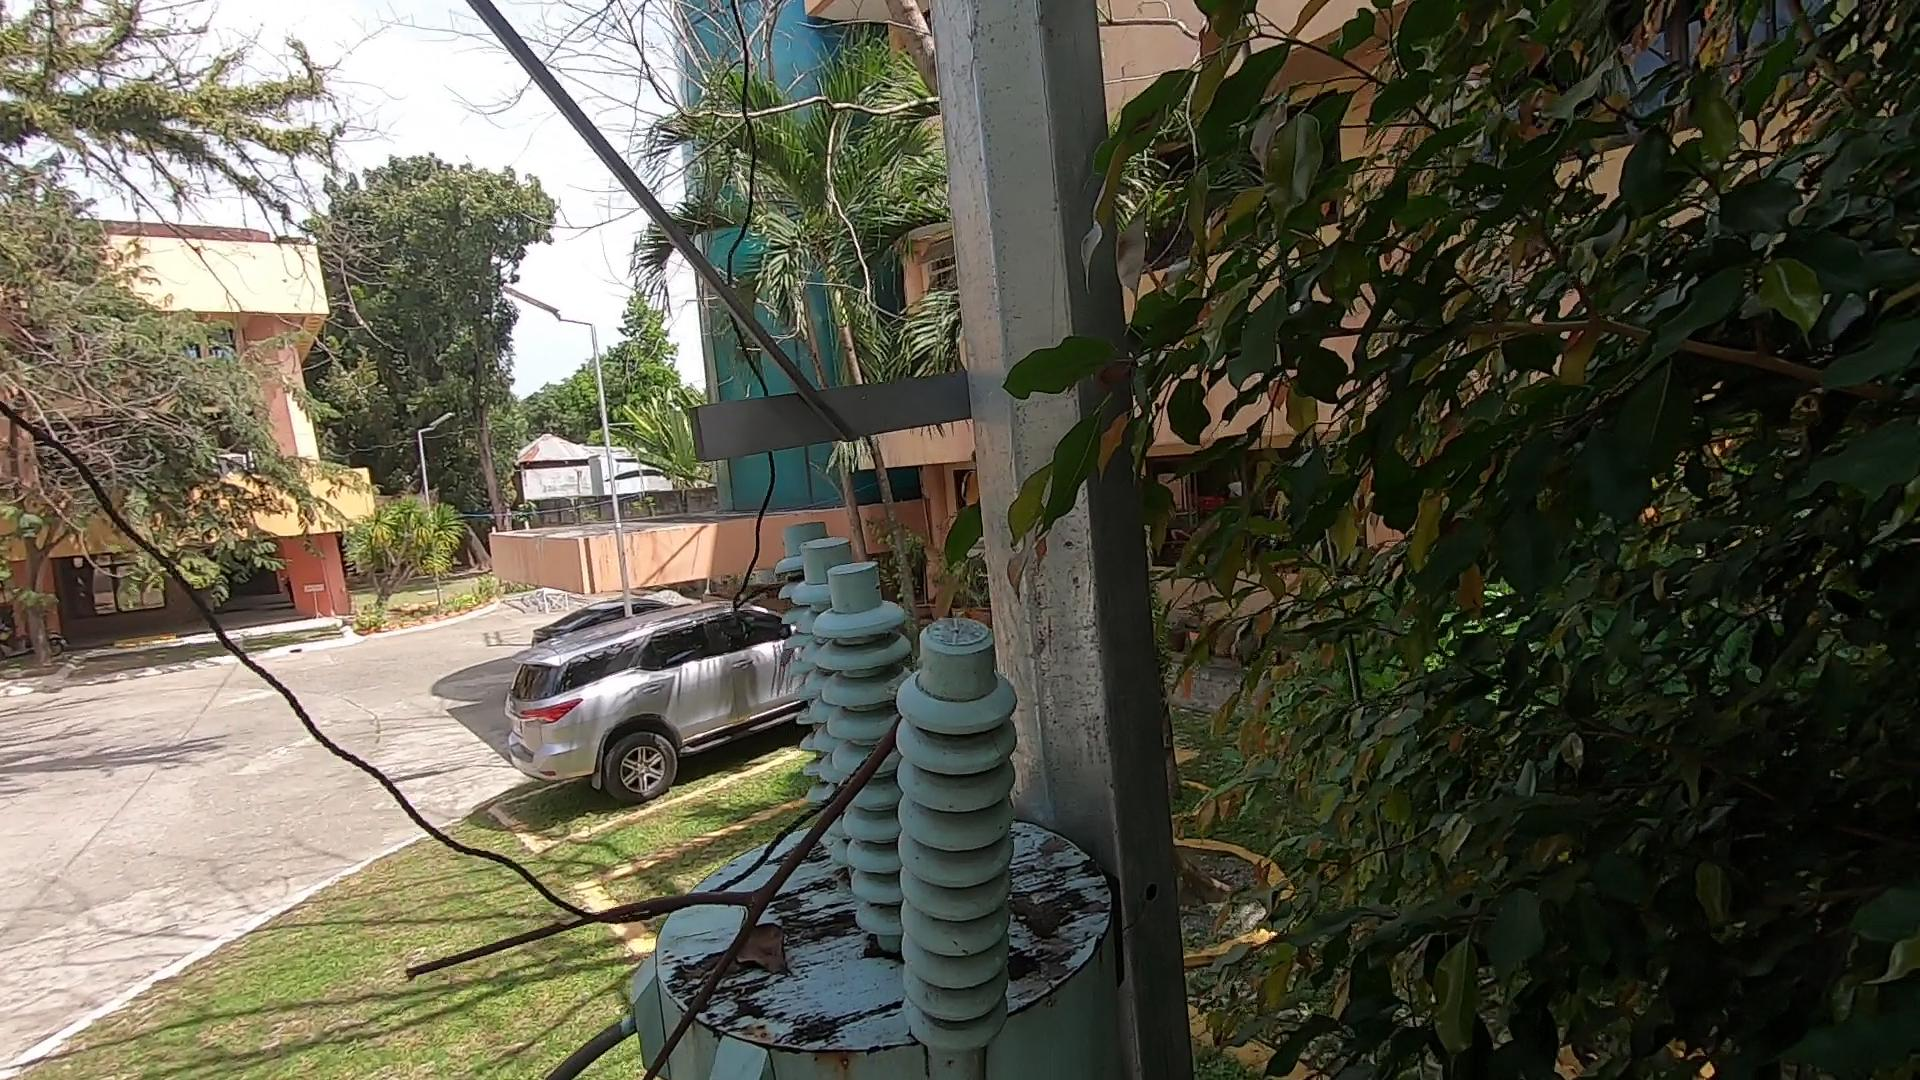leaf: (720, 914, 818, 992)
tree branch: (386, 698, 905, 1080)
